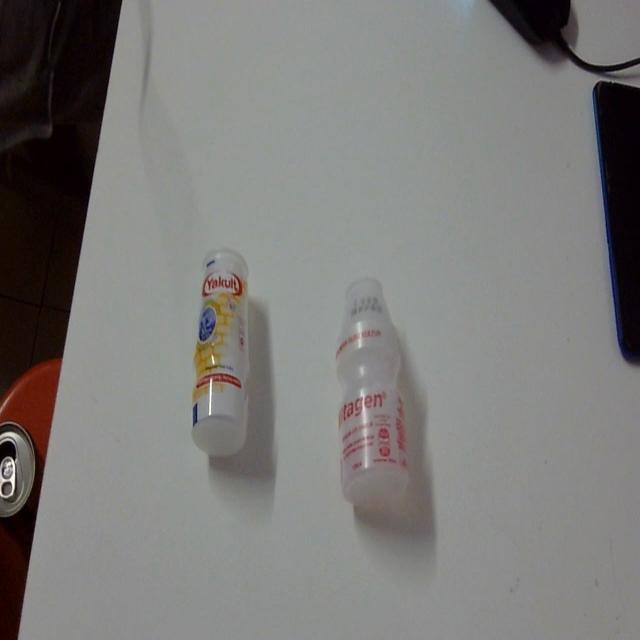plastic_laydown_90rotation: (323, 265, 427, 517), (183, 243, 263, 461)
